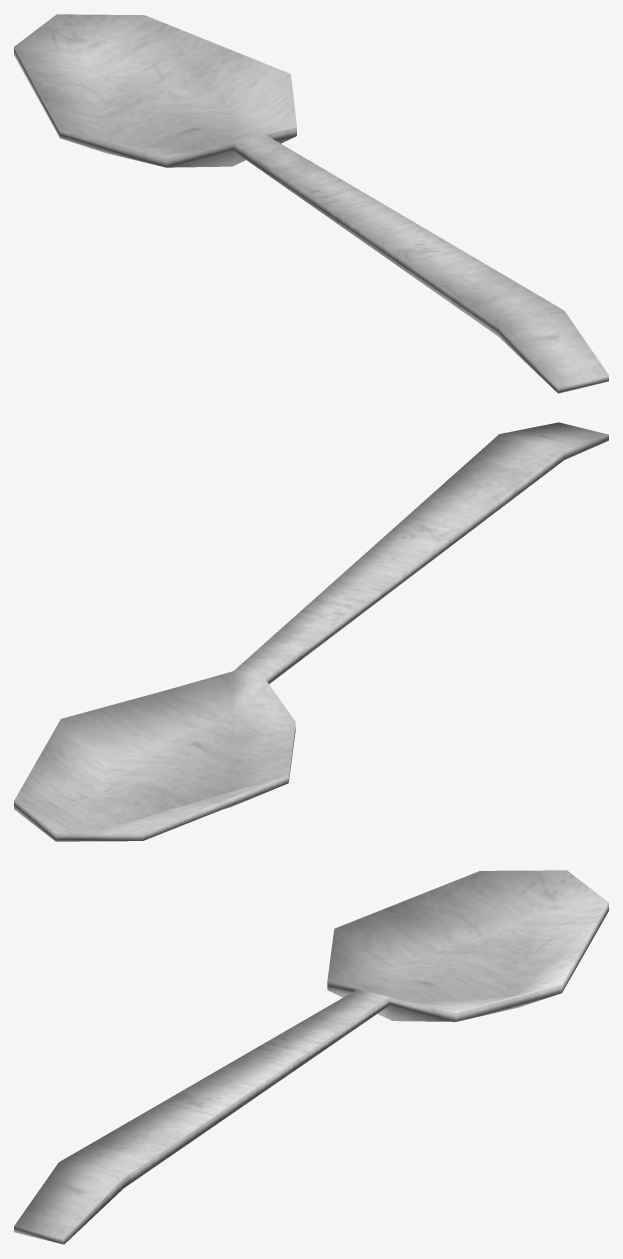
The model's file is M_Home_Garden_Bestek07.fbx.
The picture shows the model from 3 angles, top to bottom: view 1: azimuth 30°, elevation 25°; view 2: azimuth 150°, elevation 25°; view 3: azimuth 330°, elevation 25°; orthographic projection.
Parts seen in each view (by area): view 1: M_Home_Garden_Bestek07; view 2: M_Home_Garden_Bestek07; view 3: M_Home_Garden_Bestek07.
Part boxes in pixels (x1,y1,x2,y2): M_Home_Garden_Bestek07: (14,14,608,393); M_Home_Garden_Bestek07: (14,422,608,841); M_Home_Garden_Bestek07: (14,870,608,1244).
Bounding box in the file's own units: 21.5 × 7.75 × 85.67.
